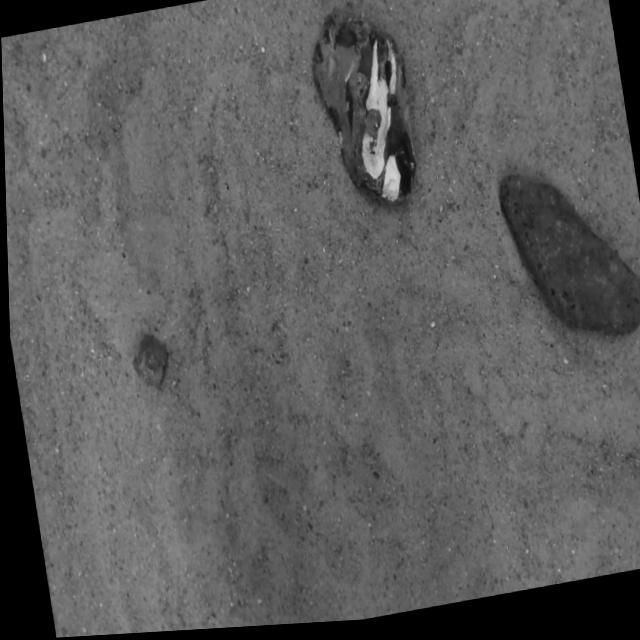rock: (499, 181, 640, 340), (312, 16, 414, 205), (131, 336, 164, 390)
